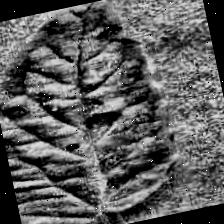disease: (0, 0, 190, 224)
